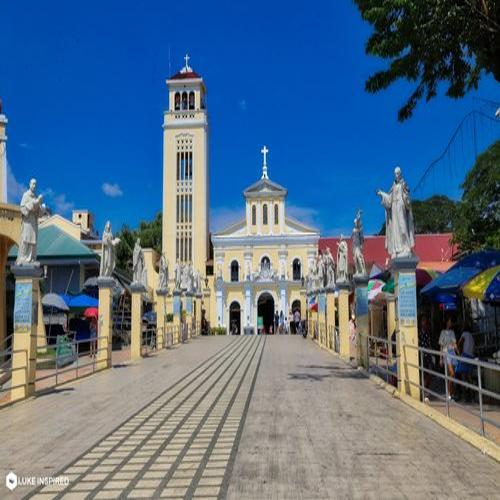Manaoag Church: (149, 49, 320, 347)
